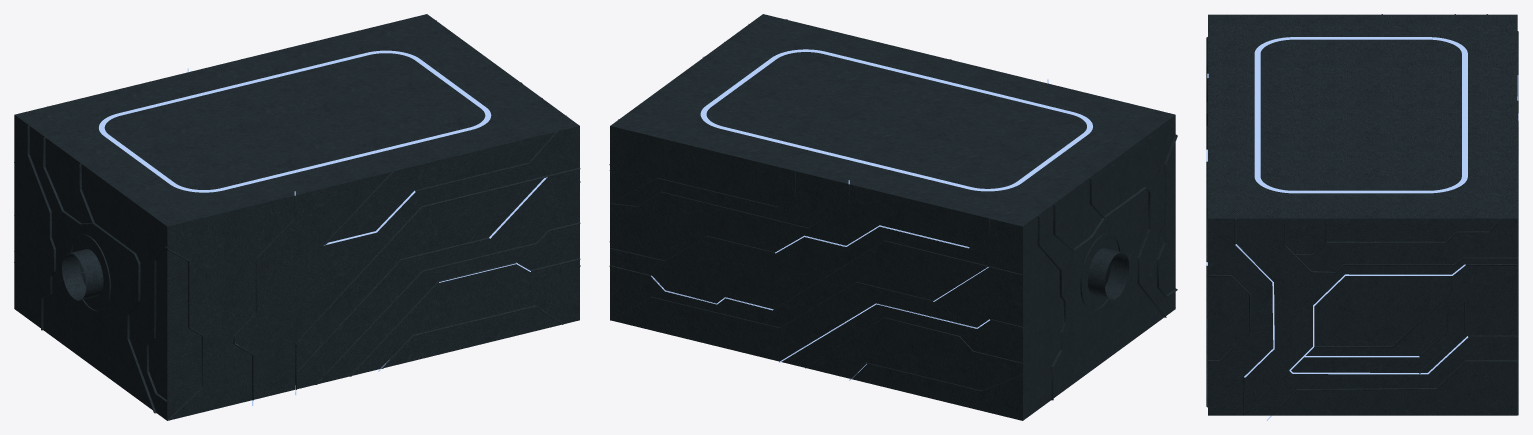
File: tt-arena.glb
3 views of the same model, side by side, from view 1: azimuth 30°, elevation 25°; view 2: azimuth 150°, elevation 25°; view 3: azimuth 270°, elevation 25° (orthographic).
Visible parts, largest first — view 1: Wall02, Ceiling, Wall01, CeilingLight; view 2: Wall03, Ceiling, Wall01, CeilingLight, Light02; view 3: Wall00, Ceiling, CeilingLight, Wall03, Wall02.
Boxes of the visible parts, bbox=[...] form: Wall02: bbox=[167, 126, 580, 420]; Ceiling: bbox=[15, 14, 579, 226]; Wall01: bbox=[14, 115, 167, 420]; CeilingLight: bbox=[99, 50, 491, 192]; Wall03: bbox=[610, 126, 1022, 420]; Ceiling: bbox=[610, 14, 1175, 226]; Wall01: bbox=[1023, 115, 1177, 420]; CeilingLight: bbox=[700, 49, 1092, 191]; Light02: bbox=[651, 180, 989, 380]; Wall00: bbox=[1208, 218, 1517, 415]; Ceiling: bbox=[1208, 14, 1517, 218]; CeilingLight: bbox=[1254, 37, 1467, 193]; Wall03: bbox=[1517, 31, 1518, 415]; Wall02: bbox=[1206, 37, 1207, 407].
Bounding box in the file's own units: 10.99 × 4.98 × 6.82.
3 materials, 2 textured.
